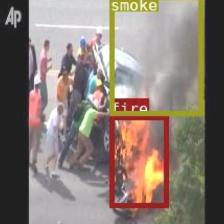fire: (109, 114, 168, 207)
smoke: (108, 0, 202, 114)
